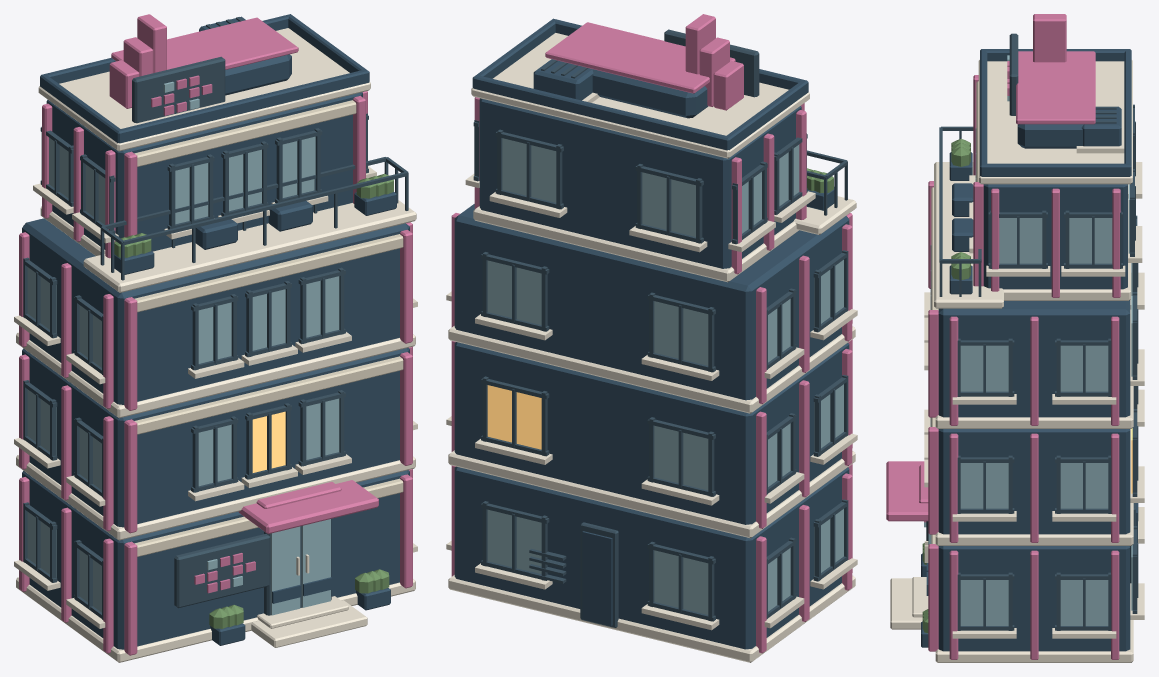
The model's file is gaming-l04.glb.
The picture shows the model from 3 angles, left to right: view 1: azimuth 30°, elevation 25°; view 2: azimuth 150°, elevation 25°; view 3: azimuth 270°, elevation 25°; orthographic projection. The views are drawn at different scales.
Visible parts, largest first — view 1: gaming_L04; view 2: gaming_L04; view 3: gaming_L04.
Boxes of the visible parts, <box> form: gaming_L04: <box>14,14,417,662</box>; gaming_L04: <box>446,14,857,662</box>; gaming_L04: <box>886,14,1144,662</box>.
Size of the model in its own units: 5.77 by 9.99 by 4.24.
